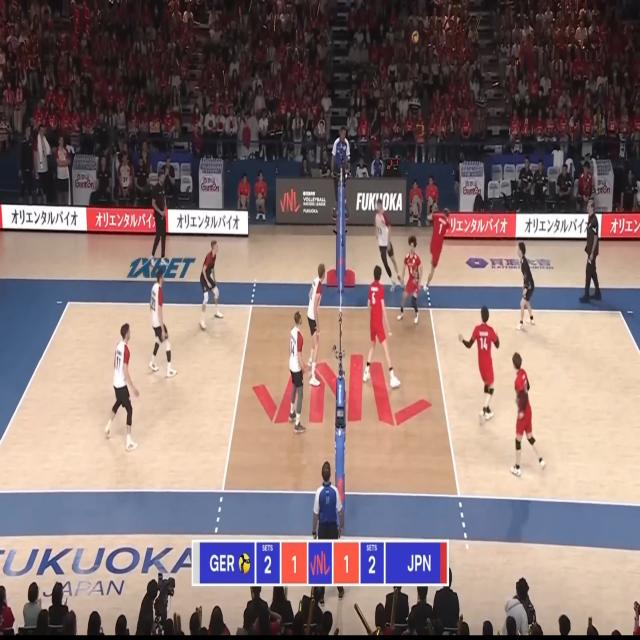ball: (412, 31, 419, 43)
